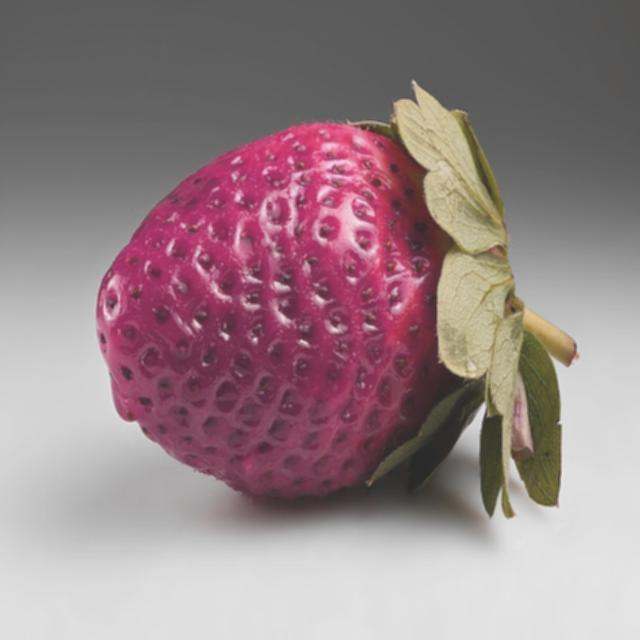strawberry: (98, 85, 576, 514)
